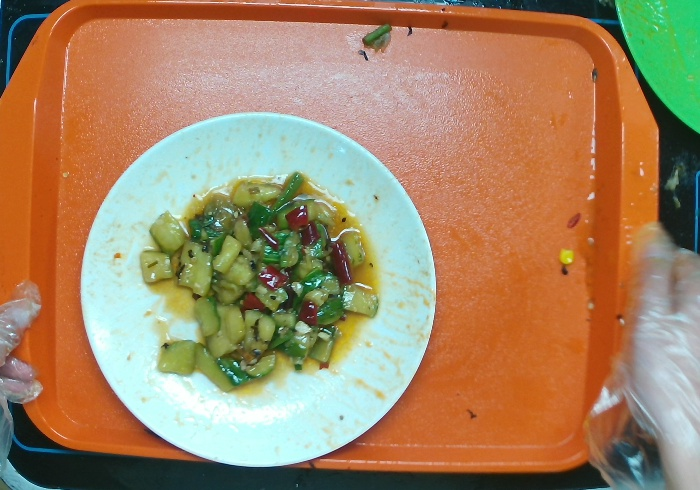HZYJPL-Bai_Se_Yuan_Pan: (75, 109, 438, 467)
